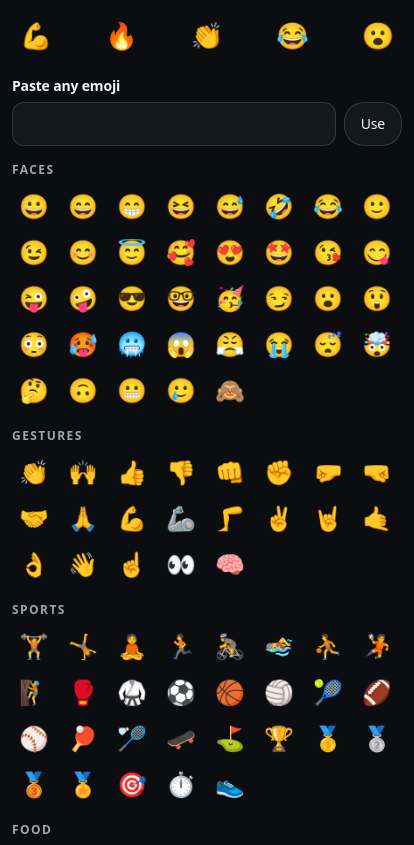
Scenario: EmojiPicker › refuses pasted text and says why
The width and height of the screenshot is (414, 845).
Type "haha" into the field labelled "Paste any emoji" at [174, 124], box [12, 102, 336, 146]
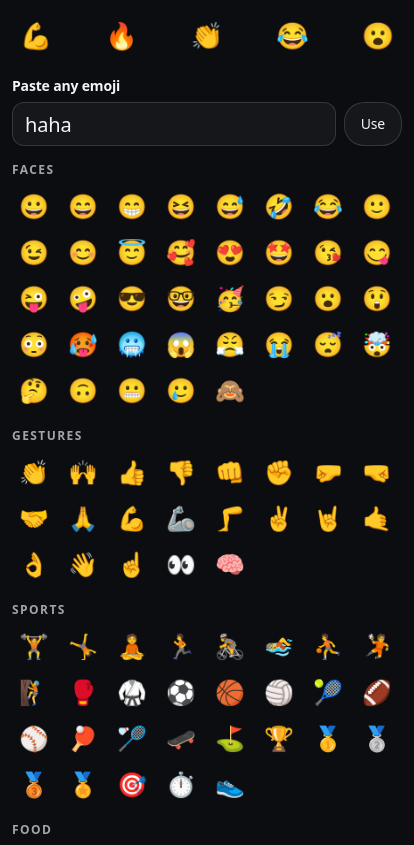
Click the button "Use" at [373, 124], box [344, 102, 402, 146]
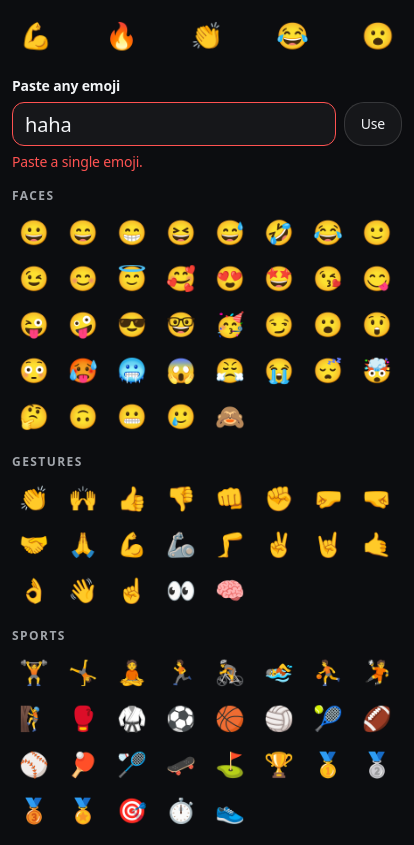
Result: the text "Paste a single emoji." is shown at [12, 152, 143, 171]
Replace the text in the field labelled "Paste any emoji" with "👨‍👩‍👧‍👦" at [174, 124], box [12, 102, 336, 146]
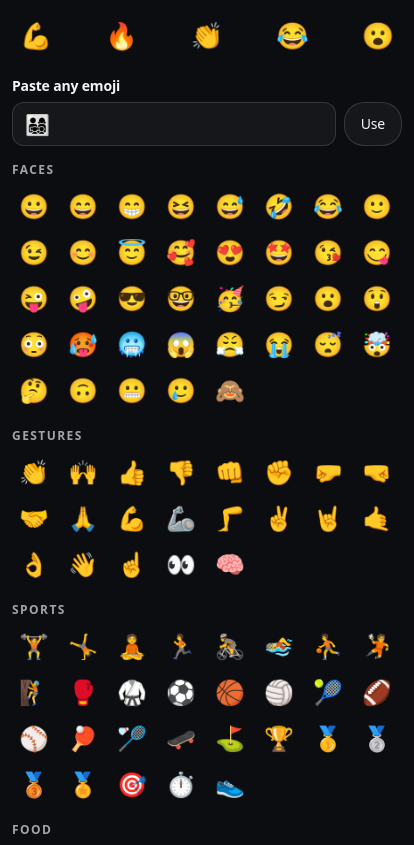
Click the button "Use" at [373, 124], box [344, 102, 402, 146]
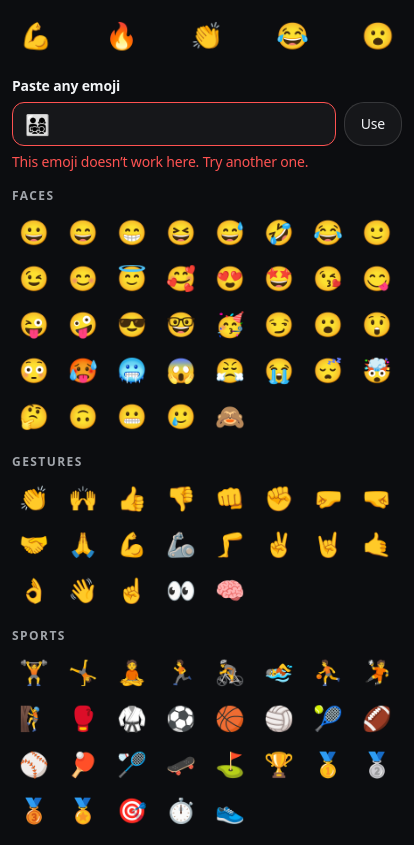
Result: the text "This emoji doesn’t work here. Try another one." is shown at [12, 152, 308, 171]
